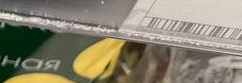1d: (144, 15, 242, 43)
